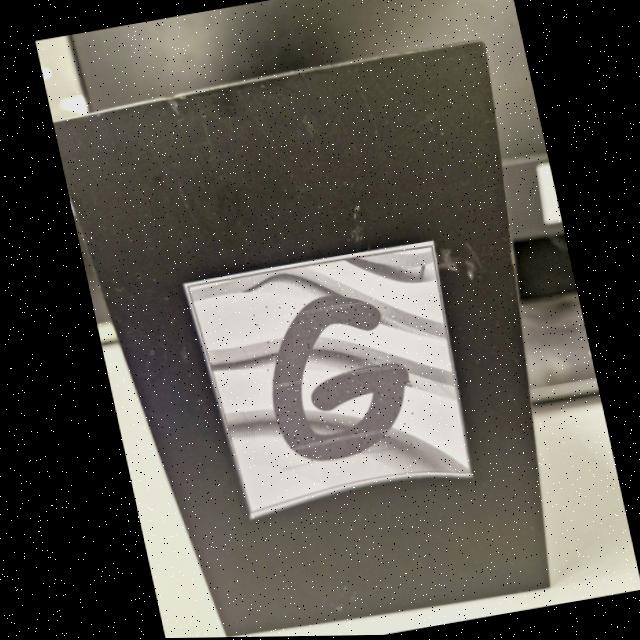G: (267, 294, 405, 462)
